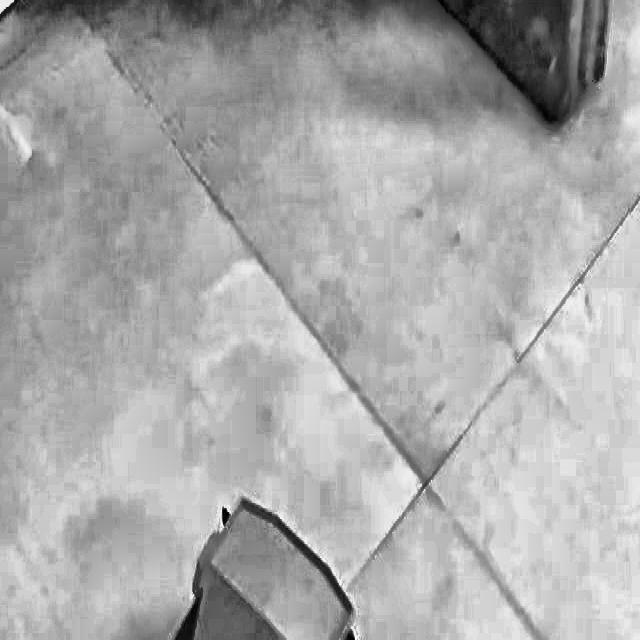dump_truck: (44, 489, 362, 640)
